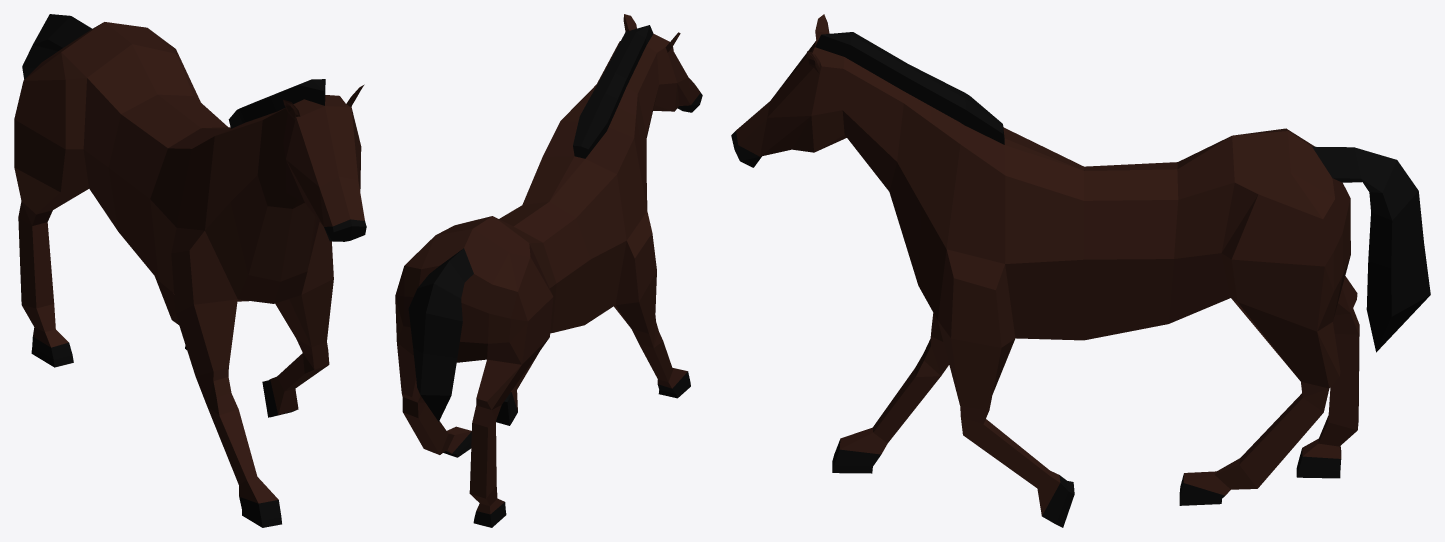
Rendered from Horse_000017.obj.
3 renders of one model, left to right at view 1: azimuth 30°, elevation 25°; view 2: azimuth 150°, elevation 25°; view 3: azimuth 270°, elevation 25°, orthographic. The views are drawn at different scales.
Visible parts, largest first — view 1: Horse_Cylinder; view 2: Horse_Cylinder; view 3: Horse_Cylinder.
Boxes of the visible parts, x1=… form: Horse_Cylinder: x1=14, y1=14, x2=366, y2=527; Horse_Cylinder: x1=395, y1=14, x2=702, y2=527; Horse_Cylinder: x1=731, y1=14, x2=1430, y2=527.
Size of the model in its own units: 2.59 by 6.67 by 9.22.
